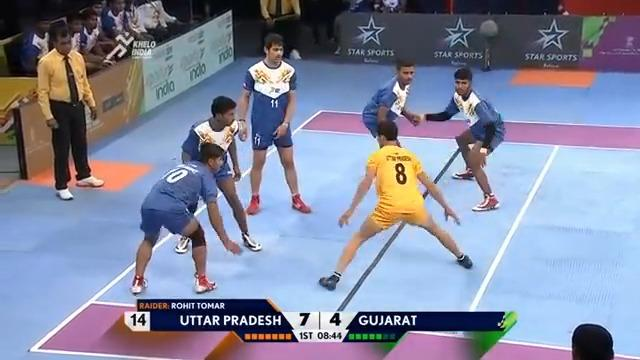Player: (129, 142, 241, 294), (234, 32, 312, 215), (174, 95, 262, 254), (412, 66, 505, 211), (35, 18, 104, 200), (361, 56, 421, 147)
Raider: (318, 120, 473, 291)
referee: (258, 0, 302, 60)
